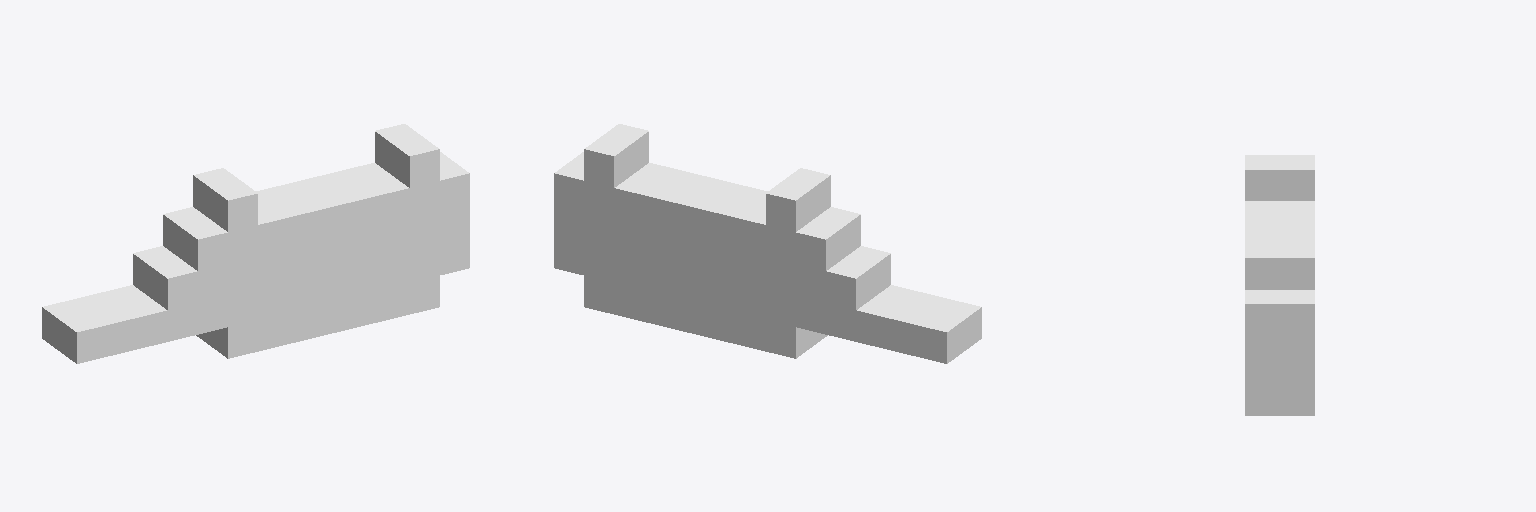
Rendered from IronDrill.obj.
3 renders of one model, left to right at view 1: azimuth 30°, elevation 25°; view 2: azimuth 150°, elevation 25°; view 3: azimuth 270°, elevation 25°, orthographic.
Parts seen in each view (by area): view 1: object 1; view 2: object 1; view 3: object 1.
Boxes of the visible parts, x1,y1,x2,y2 form: object 1: [42, 124, 469, 363]; object 1: [554, 124, 981, 363]; object 1: [1245, 155, 1314, 415].
Bounding box in the file's own units: 1.3 × 0.5 × 0.2.